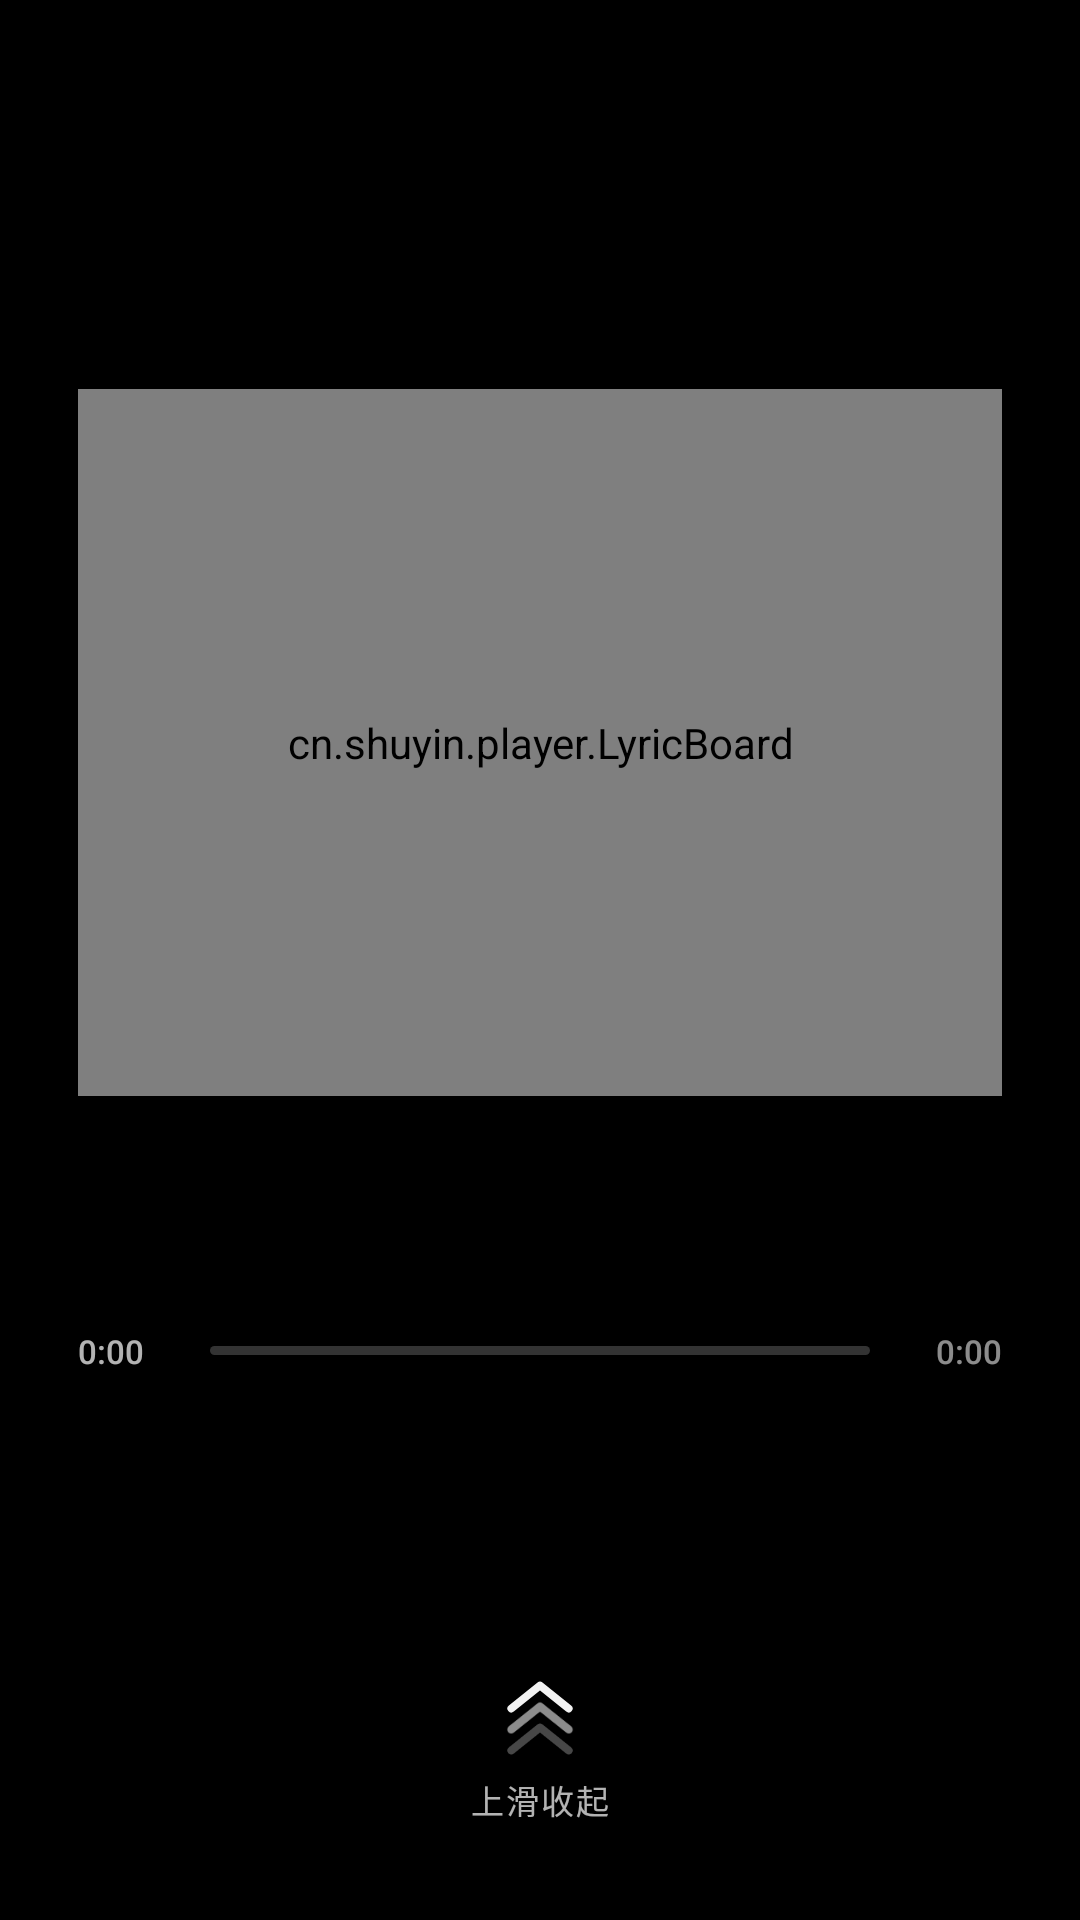

Where to tap for icons on this 1080w x 1920h app screen, as (x,y):
chevron up: (540,1697), (540,1718), (540,1739)
